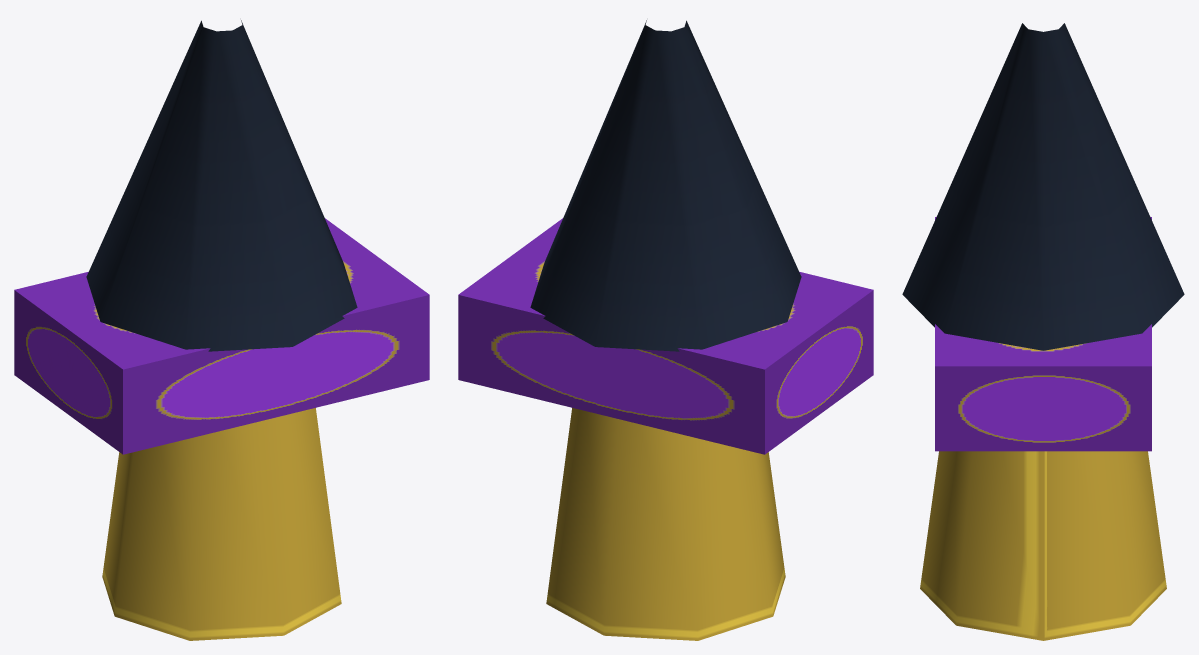
The model's file is armor_arch_robes.glb.
3 views of the same model, side by side, from view 1: azimuth 30°, elevation 25°; view 2: azimuth 150°, elevation 25°; view 3: azimuth 270°, elevation 25° (orthographic).
Parts seen in each view (by area): view 1: armor_arch_robes; view 2: armor_arch_robes; view 3: armor_arch_robes.
Boxes of the visible parts, <box> form: armor_arch_robes: <box>14,20,429,640</box>; armor_arch_robes: <box>458,20,873,640</box>; armor_arch_robes: <box>902,23,1184,640</box>.
Bounding box in the file's own units: 0.65 × 1.15 × 0.52.
1 material, 1 textured.
